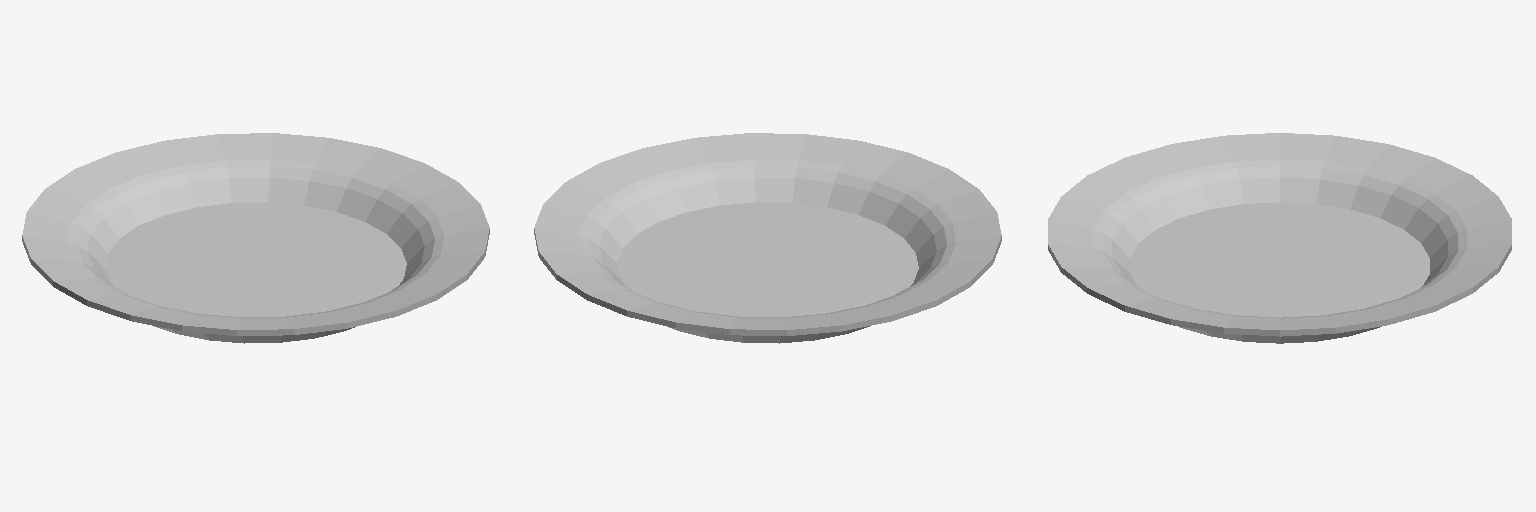
File: plate1.obj
3 views of the same model, side by side, from view 1: azimuth 30°, elevation 25°; view 2: azimuth 150°, elevation 25°; view 3: azimuth 270°, elevation 25° (orthographic).
Visible parts, largest first — view 1: Plate; view 2: Plate; view 3: Plate.
Boxes of the visible parts, <box> form: Plate: <box>22,133,489,343</box>; Plate: <box>534,133,1001,343</box>; Plate: <box>1048,133,1511,343</box>.
Bounding box in the file's own units: 17.31 × 1.99 × 17.19.